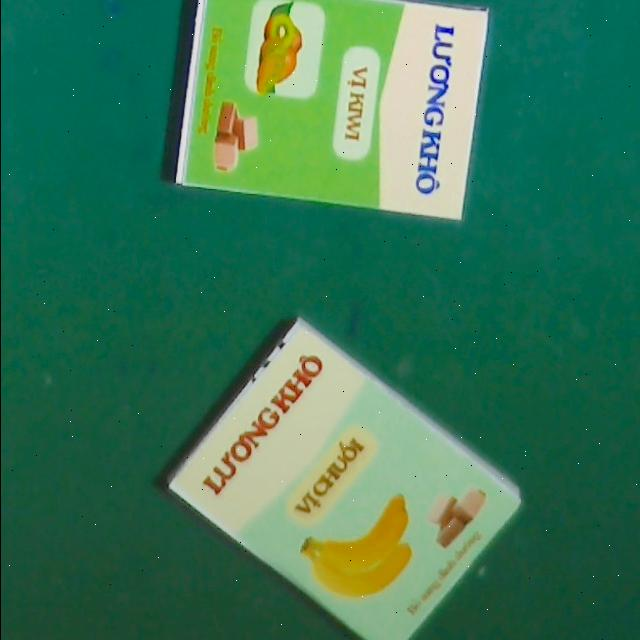chuoi: (162, 313, 529, 640)
